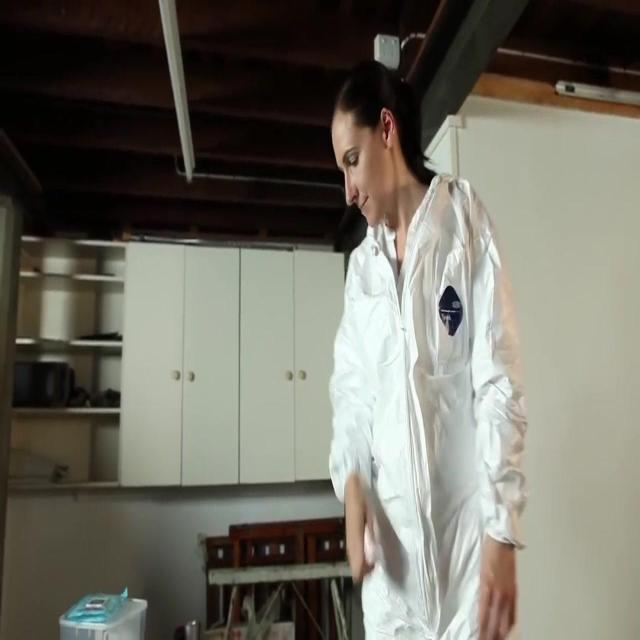Coverall: (320, 222, 522, 635)
